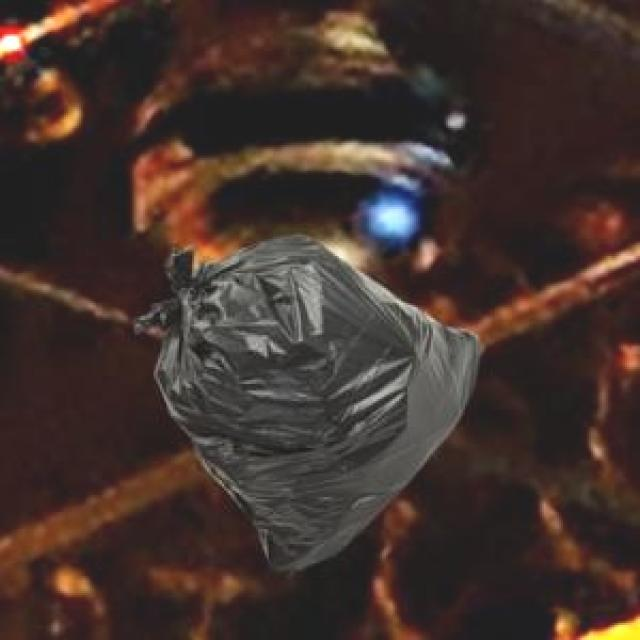Trashbag: (136, 232, 485, 578)
